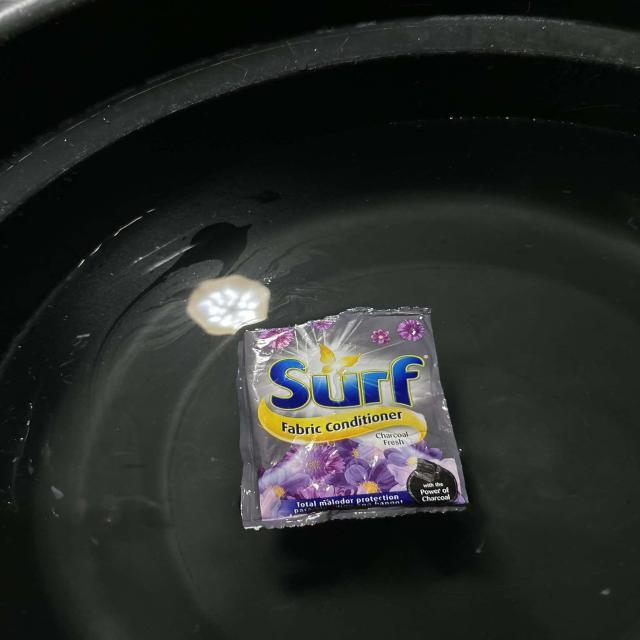Plastic Wrapper: (209, 300, 487, 552)
